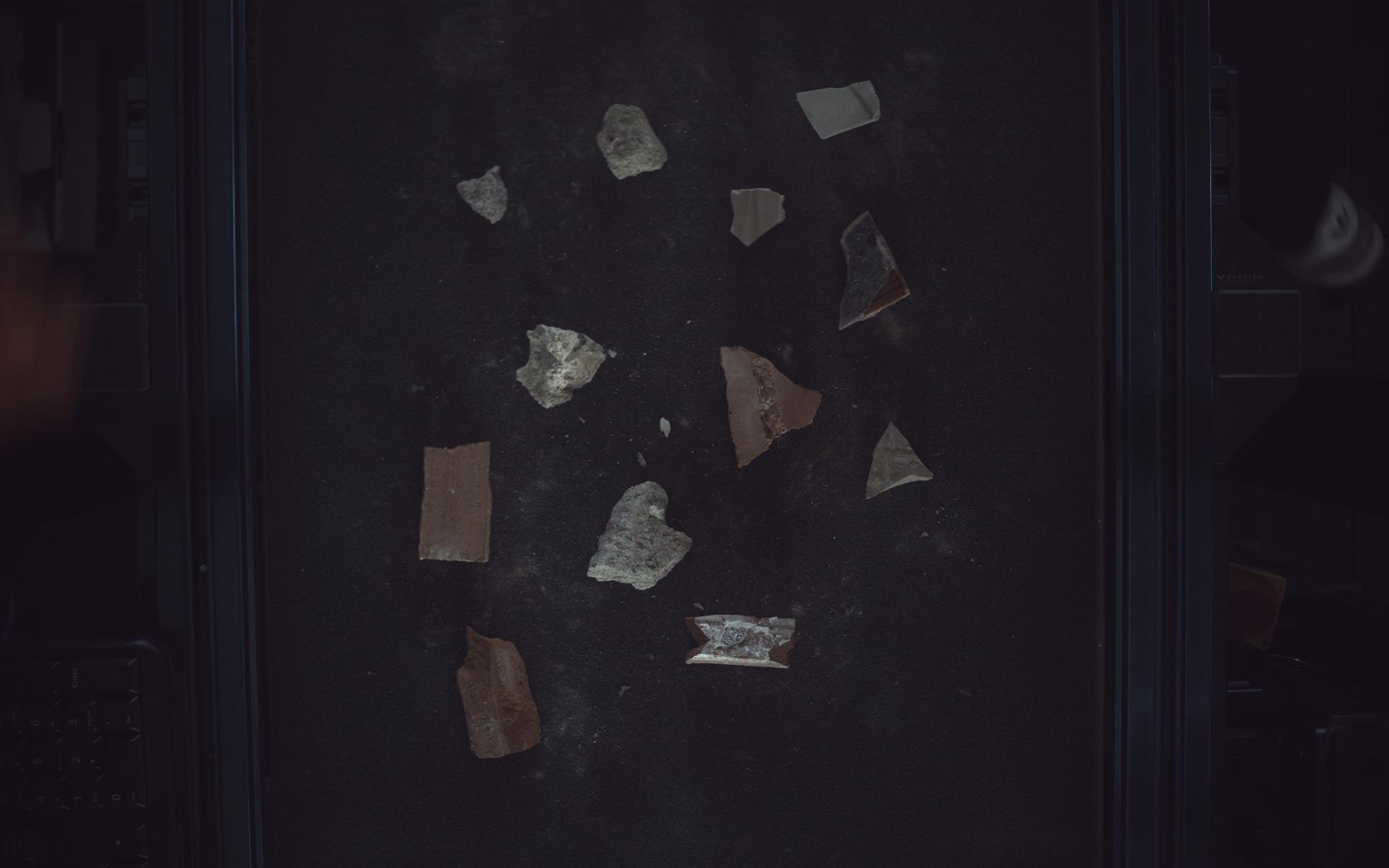brick: (721, 346, 823, 468), (458, 628, 541, 760), (420, 442, 492, 563), (686, 616, 795, 670)
concrete: (588, 481, 693, 591), (517, 324, 606, 408), (598, 103, 668, 179), (456, 164, 508, 223)
tile: (840, 210, 912, 328), (867, 422, 935, 498), (798, 80, 881, 138), (731, 187, 786, 245)
